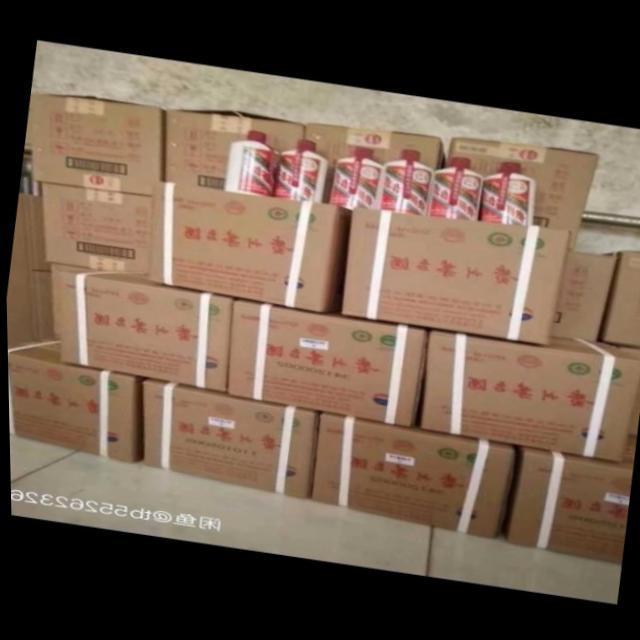box: (340, 206, 570, 346), (418, 327, 640, 461), (147, 181, 350, 312), (309, 411, 514, 537), (224, 298, 424, 426), (53, 267, 229, 392), (141, 378, 321, 498), (6, 336, 147, 464), (448, 138, 600, 251), (501, 449, 630, 563), (28, 93, 168, 196), (165, 108, 306, 187), (40, 183, 154, 277), (303, 122, 447, 170), (549, 249, 610, 342), (601, 251, 640, 348)
